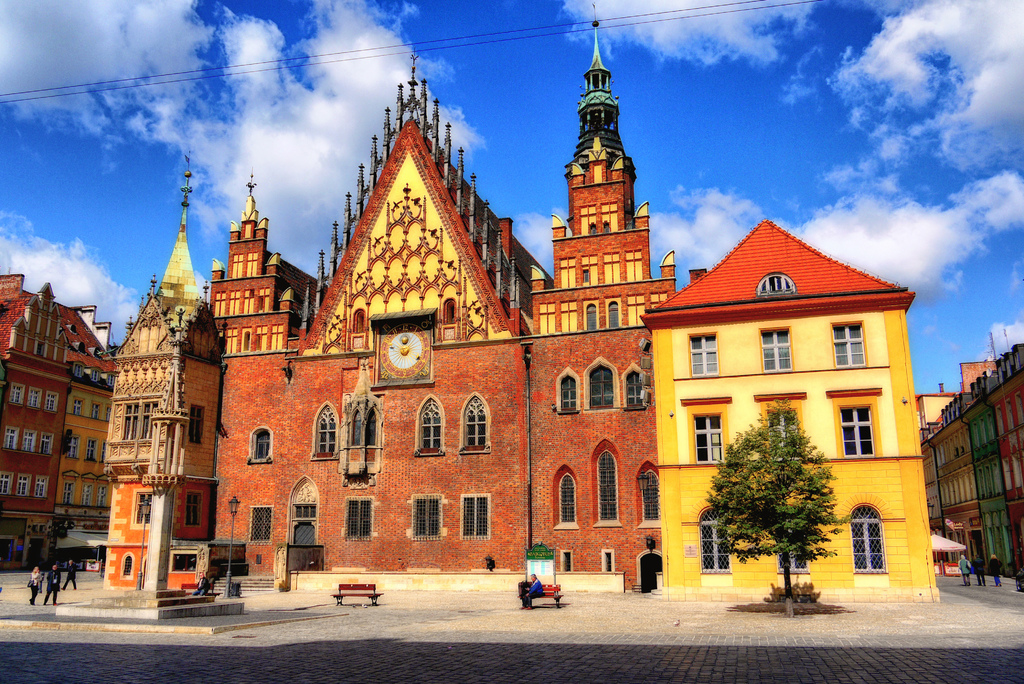Tree: (703, 397, 853, 617)
